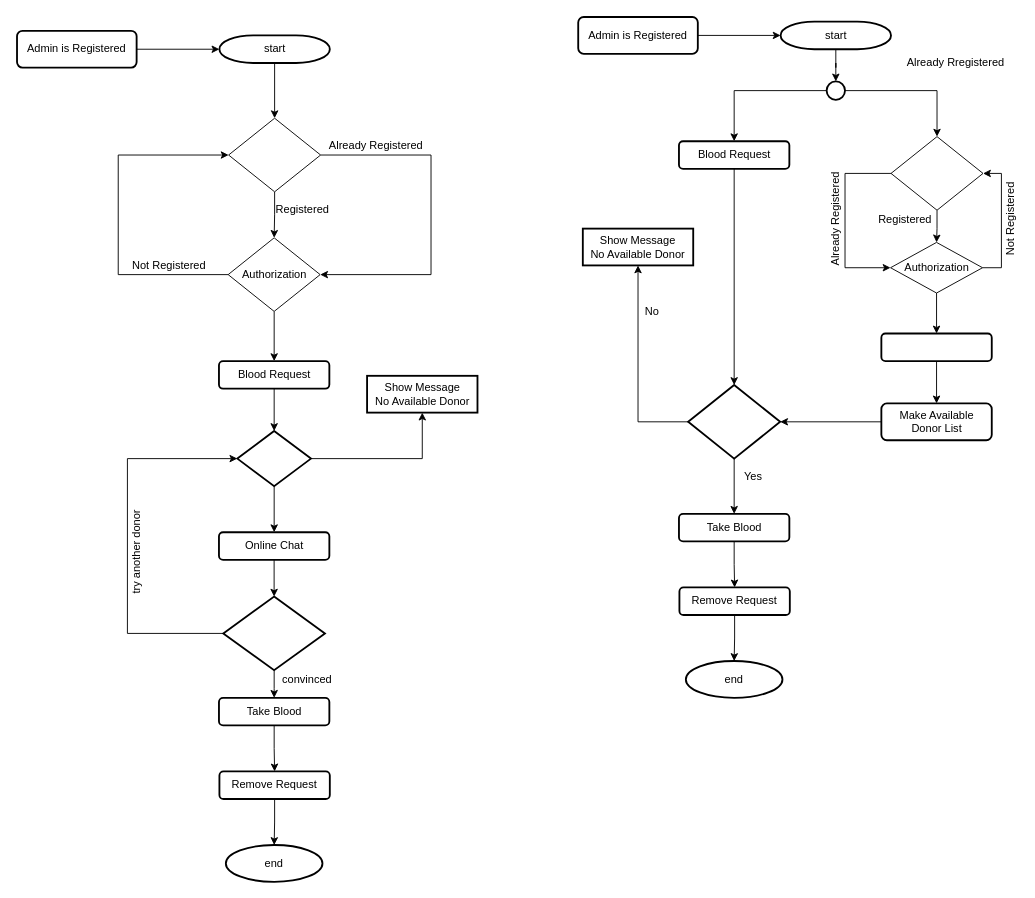
This 1035x898 diagram has some shape labels left out. Each missing label, with the centre of its shape:
"Available Donor" belongs at pixel 273 458.
"Check Availability of Donor" belongs at pixel 734 421.
"Convinced to donate blood" belongs at pixel 273 633.
"Donor Registration" belongs at pixel 936 173.
"Registration" belongs at pixel 274 154.
"Update Donor List" belongs at pixel 936 347.
